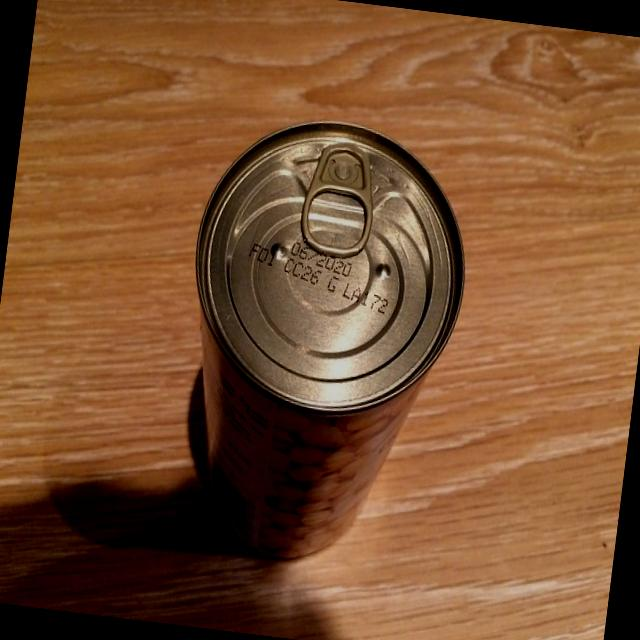Recycle: (158, 106, 480, 578)
